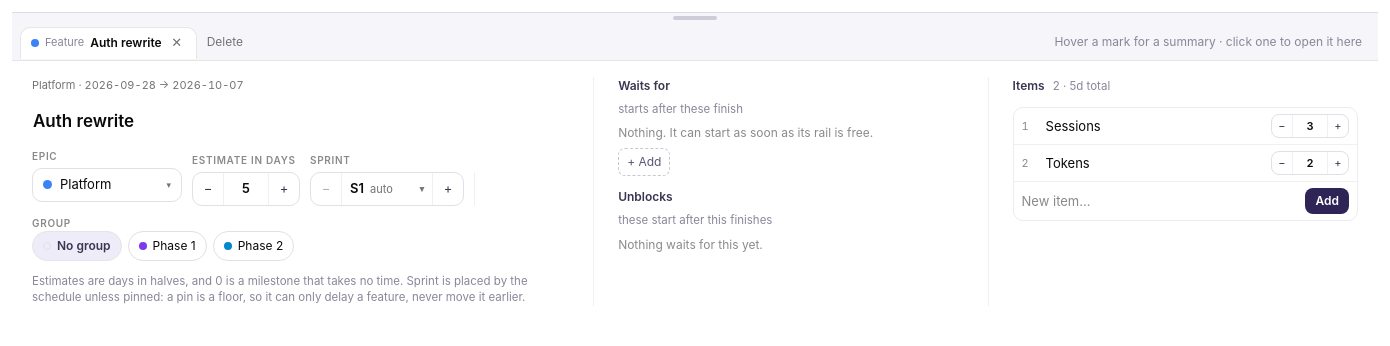
the fields it draws, from the values rather than from the words › surfaces the sentence a refused write came back with, the control having decided nothing
Replace the text in the field named "Feature name" with "Renamed" at (295, 121), box [26, 106, 563, 137]
Then press Enter
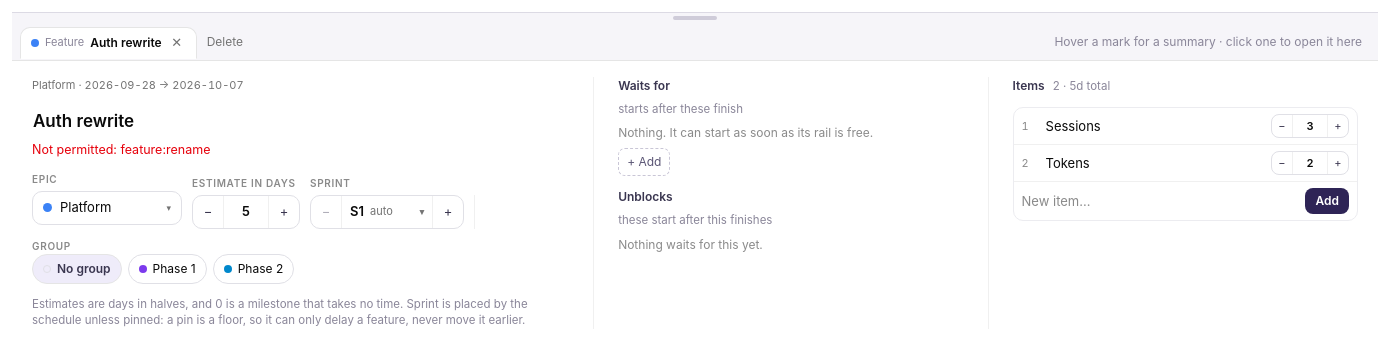
Result: the message reads "Not permitted: feature:rename" at [32, 142, 210, 157]
